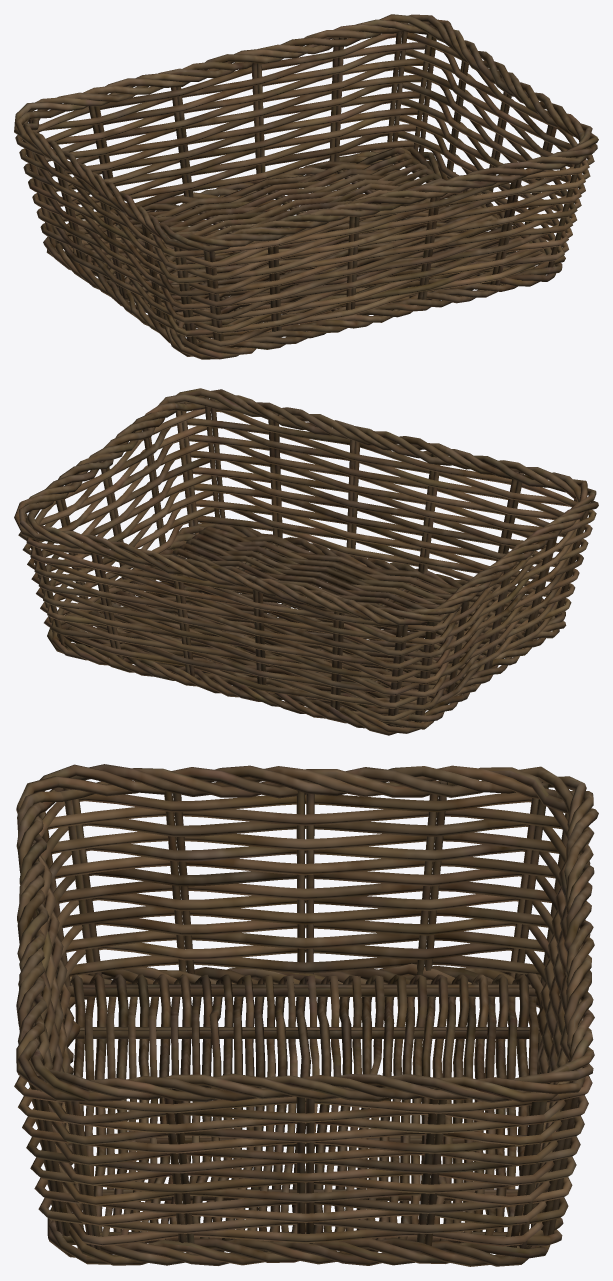
The model's file is wicker_basket_01.glb.
3 renders of one model, top to bottom at view 1: azimuth 30°, elevation 25°; view 2: azimuth 150°, elevation 25°; view 3: azimuth 270°, elevation 25°, orthographic. The views are drawn at different scales.
Parts seen in each view (by area): view 1: wicker_basket_01; view 2: wicker_basket_01; view 3: wicker_basket_01.
Part boxes in pixels (left/top/right/bottom): wicker_basket_01: left=14, top=14, right=598, bottom=359; wicker_basket_01: left=14, top=388, right=598, bottom=735; wicker_basket_01: left=14, top=764, right=598, bottom=1266.
Size of the model in its own units: 0.3832 by 0.1174 by 0.295.
1 material, 1 textured.
